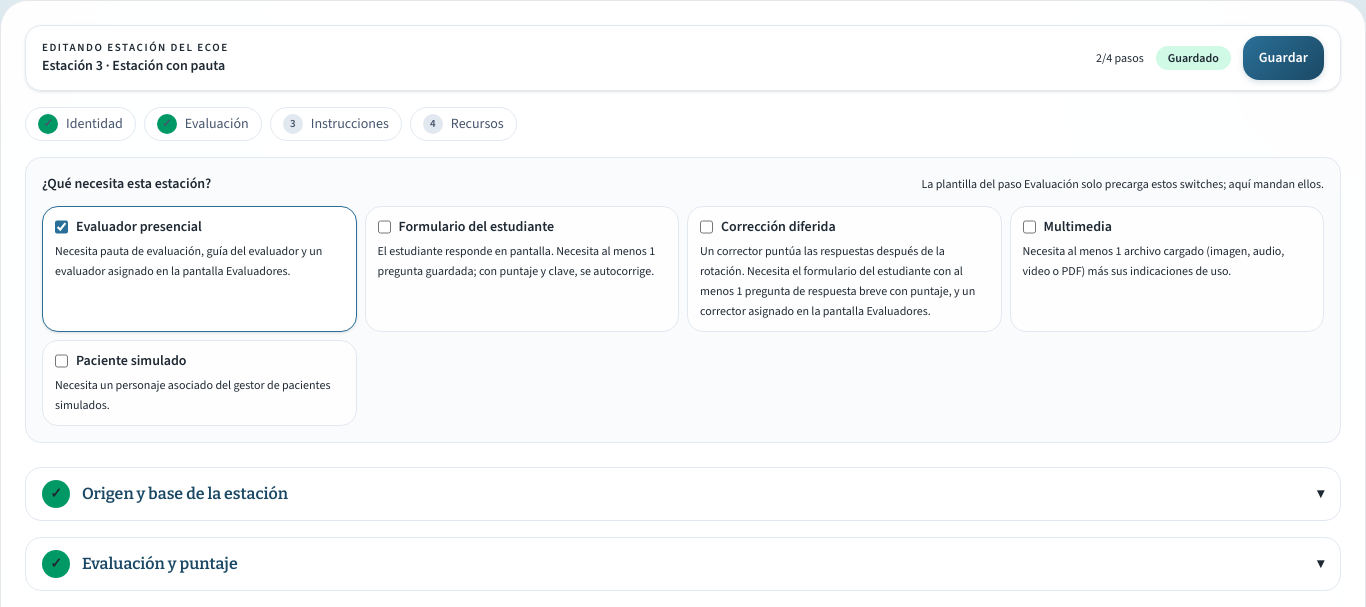
Test case: Constructor · editar pauta en sitio (OPT-7c) › al abrir una estación con assessment_tool_id carga los ítems del tool
Click the button "✓ Evaluación y puntaje ▾" at (160,564), box [26, 538, 1340, 590]
(page scrolled)
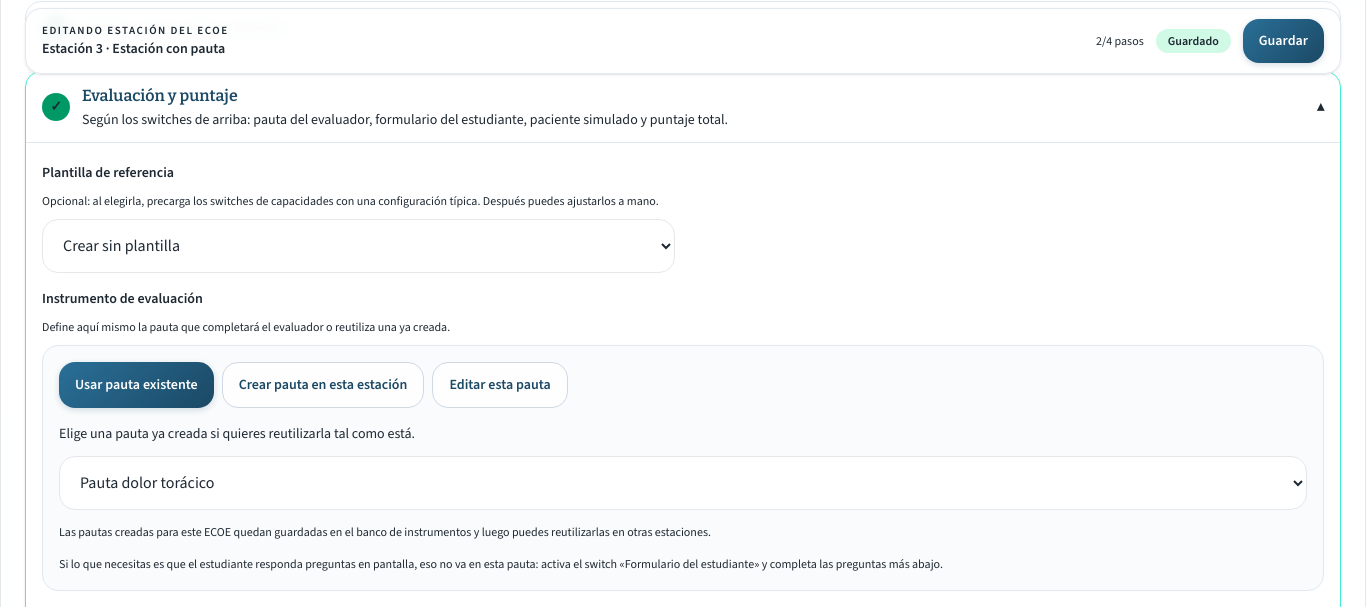
Click the button "Editar esta pauta" at (500,385), box [432, 362, 568, 408]
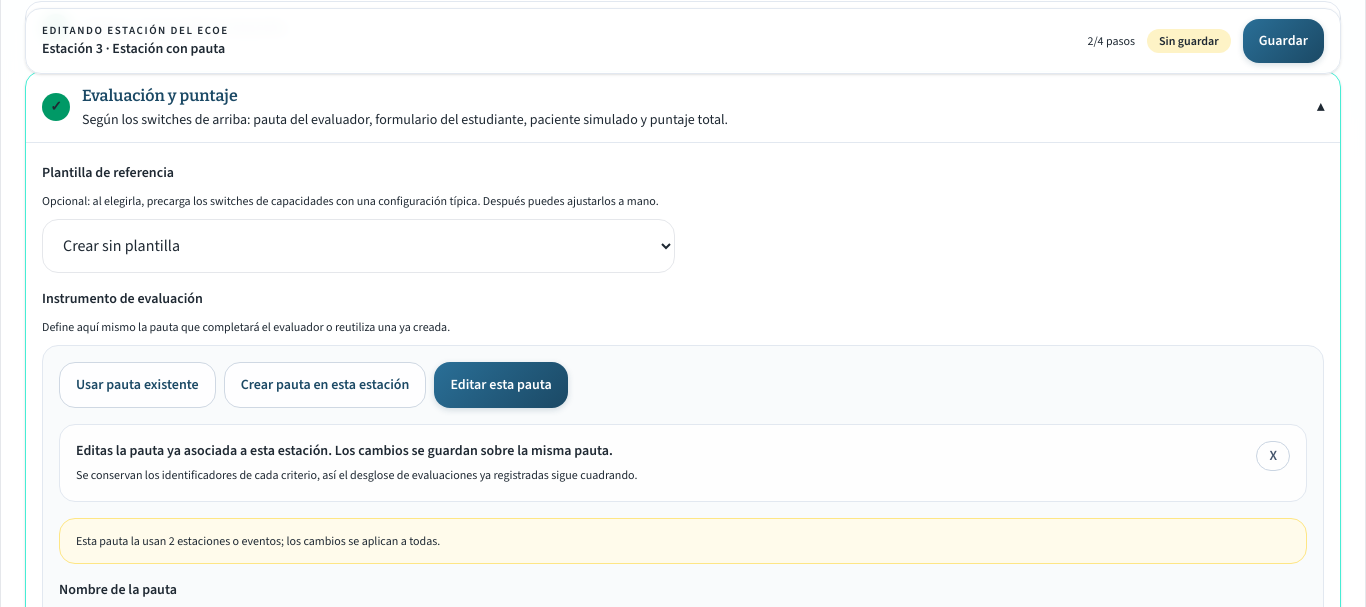
Now the text "la usan 2 estaciones o eventos" is shown, box [59, 518, 1307, 564]
